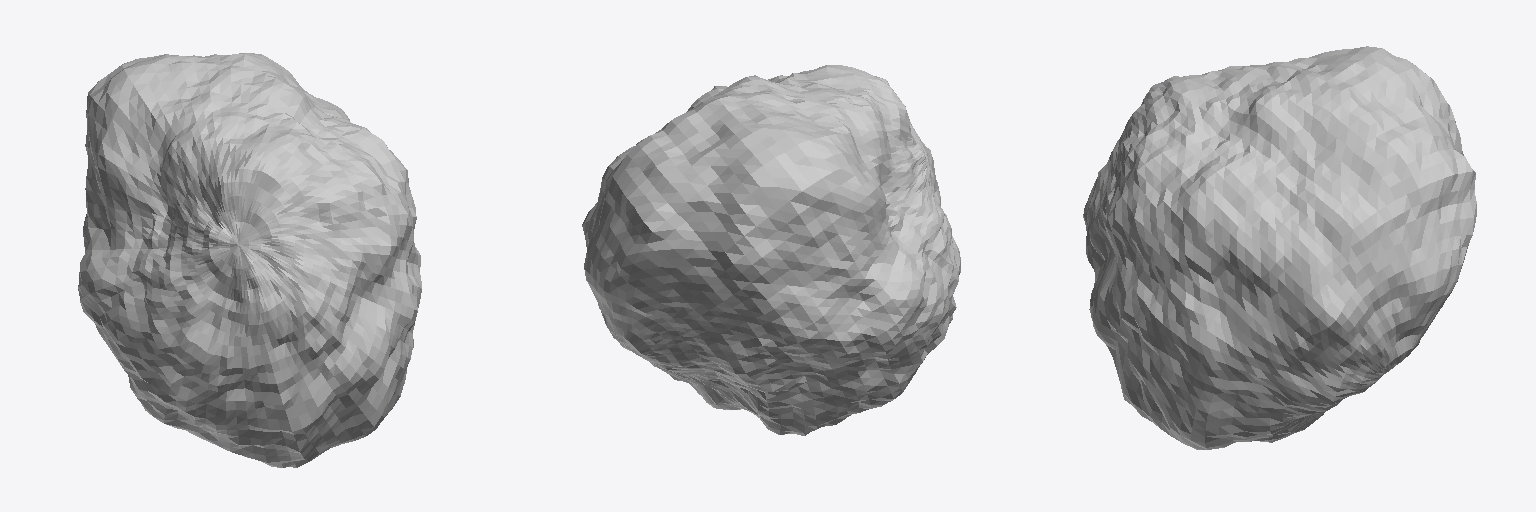
The model's file is Rock1.obj.
The picture shows the model from 3 angles: view 1: azimuth 30°, elevation 25°; view 2: azimuth 150°, elevation 25°; view 3: azimuth 270°, elevation 25°; orthographic projection.
Parts seen in each view (by area): view 1: Sphere.003; view 2: Sphere.003; view 3: Sphere.003.
Boxes of the visible parts, <box> form: Sphere.003: <box>78,53,421,467</box>; Sphere.003: <box>582,65,960,435</box>; Sphere.003: <box>1083,46,1476,449</box>.
Size of the model in its own units: 2.64 by 2.79 by 2.83.